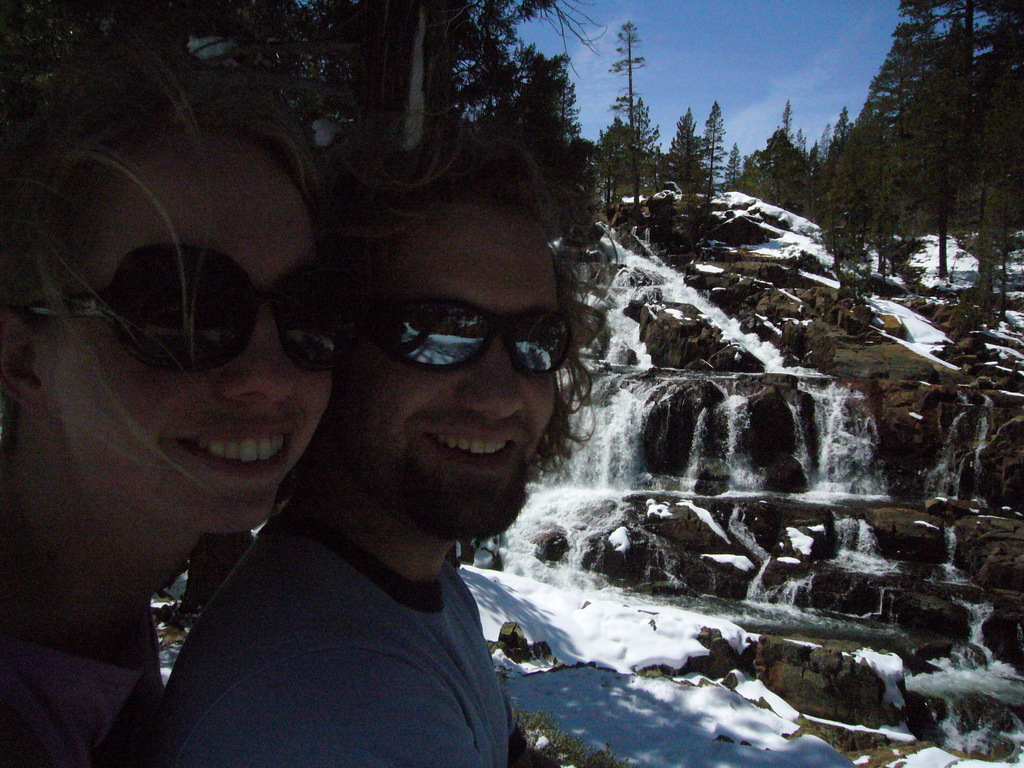Tree: (0, 0, 869, 273), (831, 17, 997, 272)
